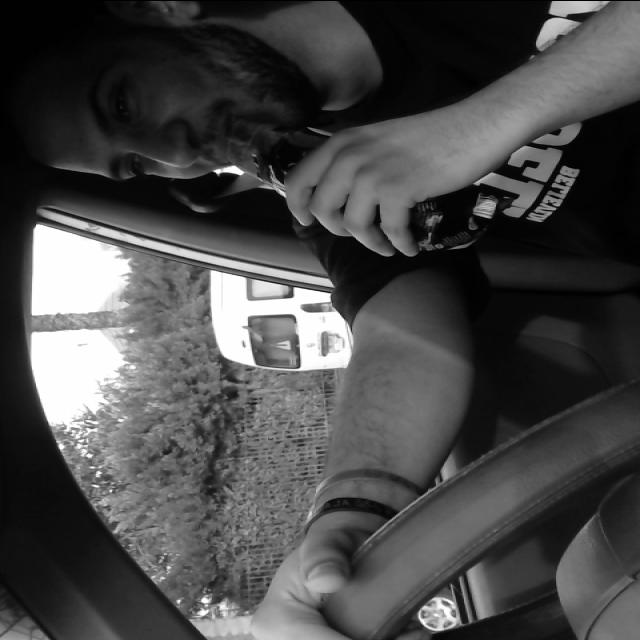eating: (203, 104, 517, 260)
